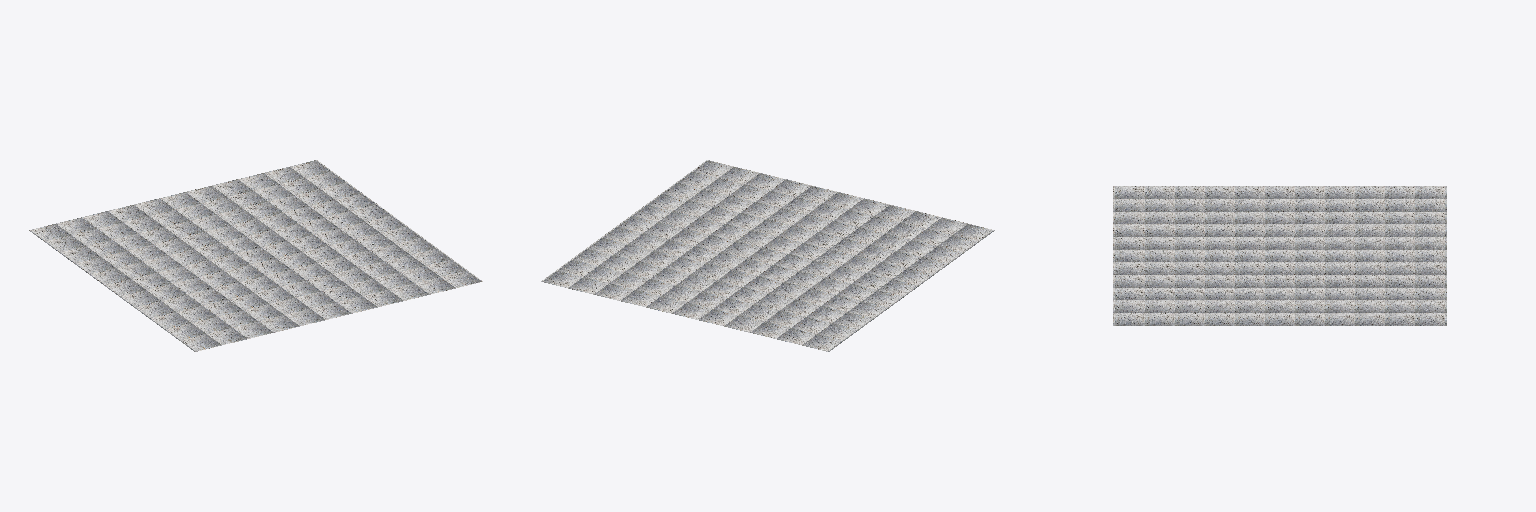
The picture shows the model from 3 angles: view 1: azimuth 30°, elevation 25°; view 2: azimuth 150°, elevation 25°; view 3: azimuth 270°, elevation 25°; orthographic projection.
Visible parts, largest first — view 1: Plane; view 2: Plane; view 3: Plane.
Boxes of the visible parts, <box> form: Plane: <box>29,160,482,351</box>; Plane: <box>541,160,994,351</box>; Plane: <box>1113,186,1446,325</box>.
Size of the model in its own units: 300 by 0 by 300.
1 materials, 1 textured.